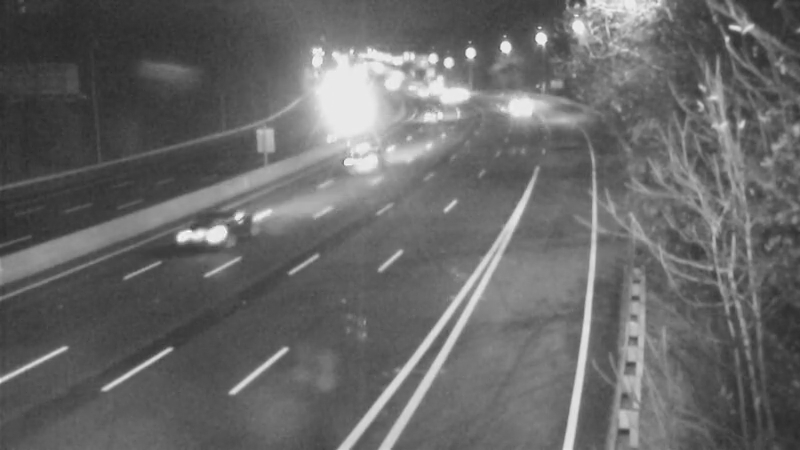vehicle: (318, 120, 398, 200), (159, 194, 239, 274), (411, 62, 461, 112), (398, 67, 448, 117), (421, 71, 471, 121), (435, 67, 485, 117), (489, 78, 539, 128), (407, 91, 457, 141)
